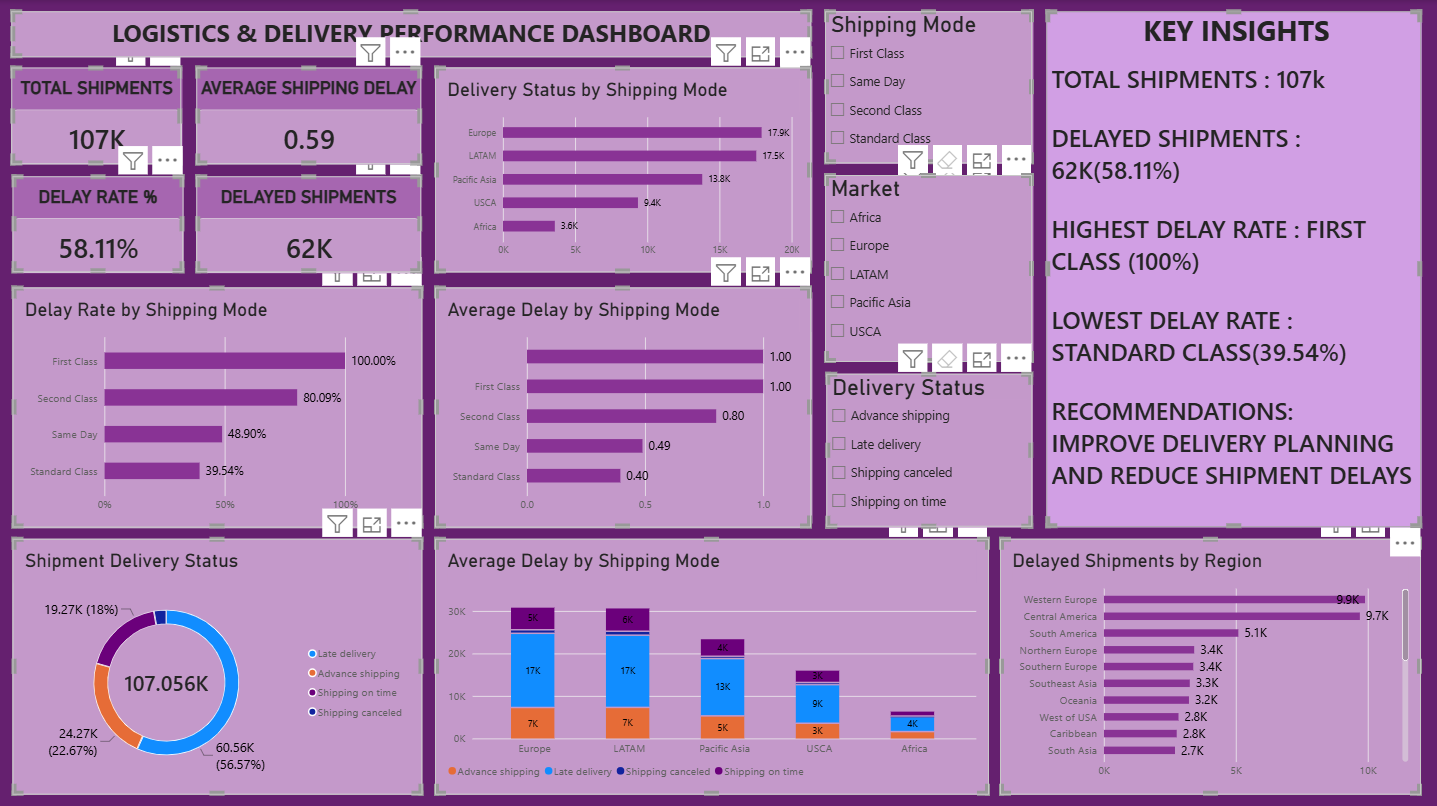

What the dashboard file says about the page in this screenshot:
{"tool":"powerbi","page":{"name":"Page 1","canvas":[1920,1080],"ordinal":0},"visuals":[{"type":"cardVisual","title":"TOTAL SHIPMENTS","fields":{"Data":["cleaned_logistics_data.Total Shipments"]},"box":[14.4,90.6,228.5,129.7],"z":0},{"type":"cardVisual","title":"DELAY RATE %","fields":{"Data":["cleaned_logistics_data.Delay Rate %"]},"box":[16.5,234.6,228.5,129.7],"z":3},{"type":"cardVisual","title":"DELAYED SHIPMENTS","fields":{"Data":["cleaned_logistics_data.Delayed Shipments"]},"box":[261.4,234.6,300.5,129.7],"z":4},{"type":"cardVisual","title":"AVERAGE SHIPPING DELAY","fields":{"Data":["cleaned_logistics_data.Average Shipping Delay"]},"box":[261.4,90.6,300.5,129.7],"z":5},{"type":"clusteredBarChart","title":"Delay Rate by Shipping Mode","fields":{"Category":["cleaned_logistics_data.Shipping Mode"],"Y":["cleaned_logistics_data.Delay Rate %"]},"box":[17.5,383.2,547.4,321.9],"z":6},{"type":"textbox","box":[15.3,15.3,1068.6,61.3],"z":7},{"type":"donutChart","title":"Shipment Delivery Status","fields":{"Category":["cleaned_logistics_data.Delivery Status"],"Y":["CountNonNull(cleaned_logistics_data.Delivery Status)"]},"box":[17.5,720.4,547.4,341.6],"z":8},{"type":"clusteredBarChart","title":"Average Delay by Shipping Mode","fields":{"Category":["cleaned_logistics_data.Shipping Mode"],"Y":["cleaned_logistics_data.avg delay rate"]},"box":[580.3,383.2,503.7,321.9],"z":9},{"type":"columnChart","title":"Average Delay by Shipping Mode","fields":{"Category":["cleaned_logistics_data.Market"],"Series":["cleaned_logistics_data.Delivery Status"],"Y":["CountNonNull(cleaned_logistics_data.Delivery Status)"]},"box":[580.3,720.4,740.1,341.6],"z":10},{"type":"clusteredBarChart","title":"Delayed Shipments by Region","fields":{"Category":["cleaned_logistics_data.Order Region"],"Y":["cleaned_logistics_data.Delayed Shipments"]},"box":[1335.8,720.4,562.8,341.6],"z":11},{"type":"clusteredBarChart","title":"Delivery Status by Shipping Mode","fields":{"Category":["cleaned_logistics_data.Market"],"Y":["cleaned_logistics_data.Delayed Shipments"]},"box":[580.3,89.8,503.7,273.7],"z":12},{"type":"slicer","fields":{"Values":["cleaned_logistics_data.Shipping Mode"]},"box":[1101.5,15.3,278.1,203.7],"z":13},{"type":"slicer","fields":{"Values":["cleaned_logistics_data.Market"]},"box":[1101.5,234.3,278.1,249.6],"z":14},{"type":"slicer","fields":{"Values":["cleaned_logistics_data.Delivery Status"]},"box":[1103.7,499.3,275.9,205.8],"z":15},{"type":"textbox","box":[1397.1,15.3,501.5,689.8],"z":16}]}

Visuals, with their boxes in screenshot pixels (x1, y1, x2, y2), scaled from the page's 1920x1080 canvas onto the 1437x806 screenshot:
"TOTAL SHIPMENTS" cardVisual: [11,68,182,164]
"DELAY RATE %" cardVisual: [12,175,183,272]
"DELAYED SHIPMENTS" cardVisual: [196,175,421,272]
"AVERAGE SHIPPING DELAY" cardVisual: [196,68,421,164]
"Delay Rate by Shipping Mode" clusteredBarChart: [13,286,423,526]
textbox: [11,11,811,57]
"Shipment Delivery Status" donutChart: [13,538,423,793]
"Average Delay by Shipping Mode" clusteredBarChart: [434,286,811,526]
"Average Delay by Shipping Mode" columnChart: [434,538,988,793]
"Delayed Shipments by Region" clusteredBarChart: [1000,538,1421,793]
"Delivery Status by Shipping Mode" clusteredBarChart: [434,67,811,271]
slicer - cleaned_logistics_data.Shipping Mode: [824,11,1033,163]
slicer - cleaned_logistics_data.Market: [824,175,1033,361]
slicer - cleaned_logistics_data.Delivery Status: [826,373,1033,526]
textbox: [1046,11,1421,526]
